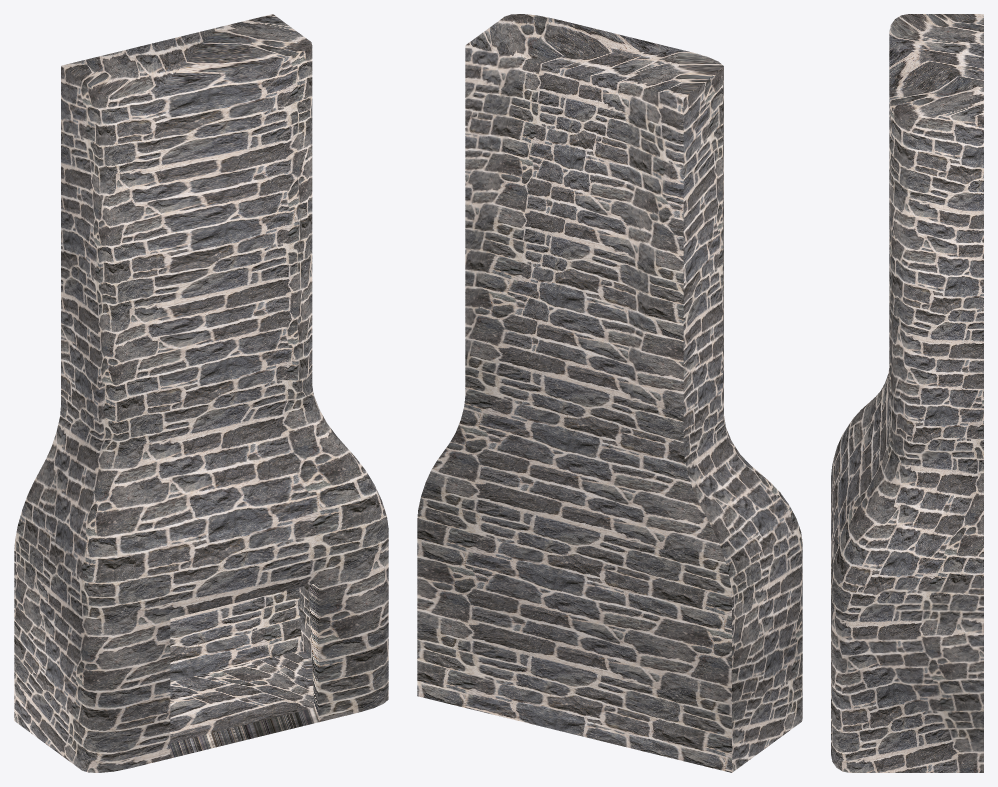
3 views of the same model, side by side, from view 1: azimuth 30°, elevation 25°; view 2: azimuth 150°, elevation 25°; view 3: azimuth 270°, elevation 25° (orthographic). The views are drawn at different scales.
Visible parts, largest first — view 1: Cube.003; view 2: Cube.003; view 3: Cube.003.
Boxes of the visible parts, <box> form: Cube.003: <box>14,14,388,772</box>; Cube.003: <box>417,14,802,772</box>; Cube.003: <box>831,14,983,772</box>.
Size of the model in its own units: 7.65 by 15.39 by 3.36.
Materials: 1 (1 with a texture image).
